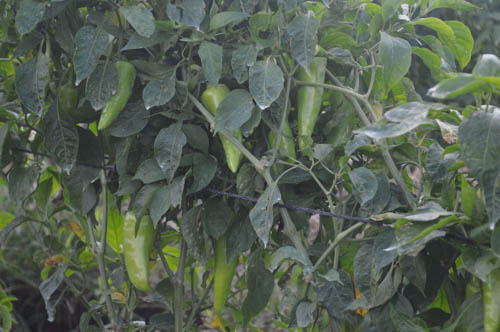ChiliPepper: (293, 56, 332, 149), (204, 84, 244, 169), (121, 213, 156, 291), (101, 62, 138, 131), (211, 232, 235, 314), (265, 126, 297, 164)
